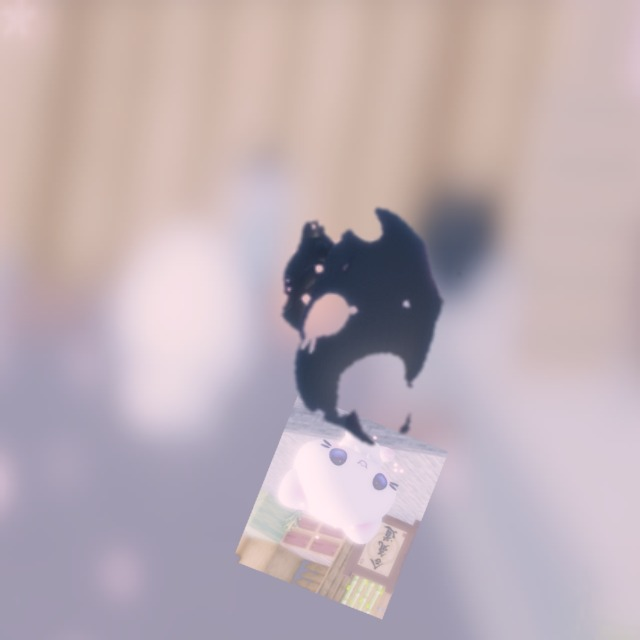urso_branco: (232, 392, 449, 620)
urso_preto: (230, 154, 494, 490)
